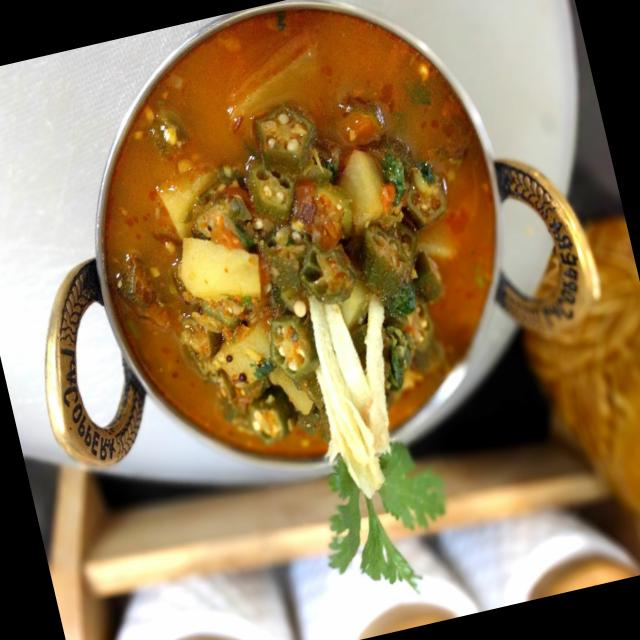BhindiMasala: (55, 0, 542, 491)
